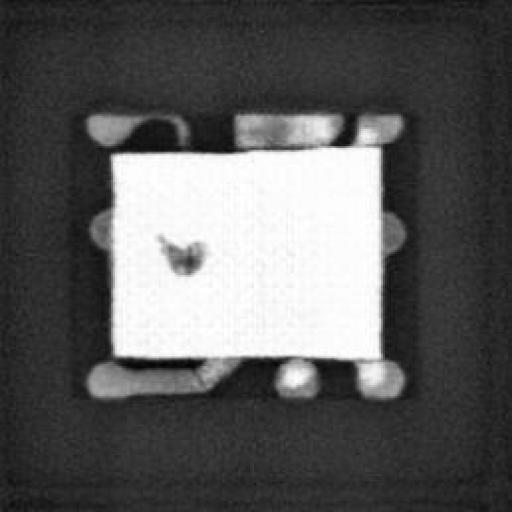DIE_INK: (151, 226, 208, 278)
